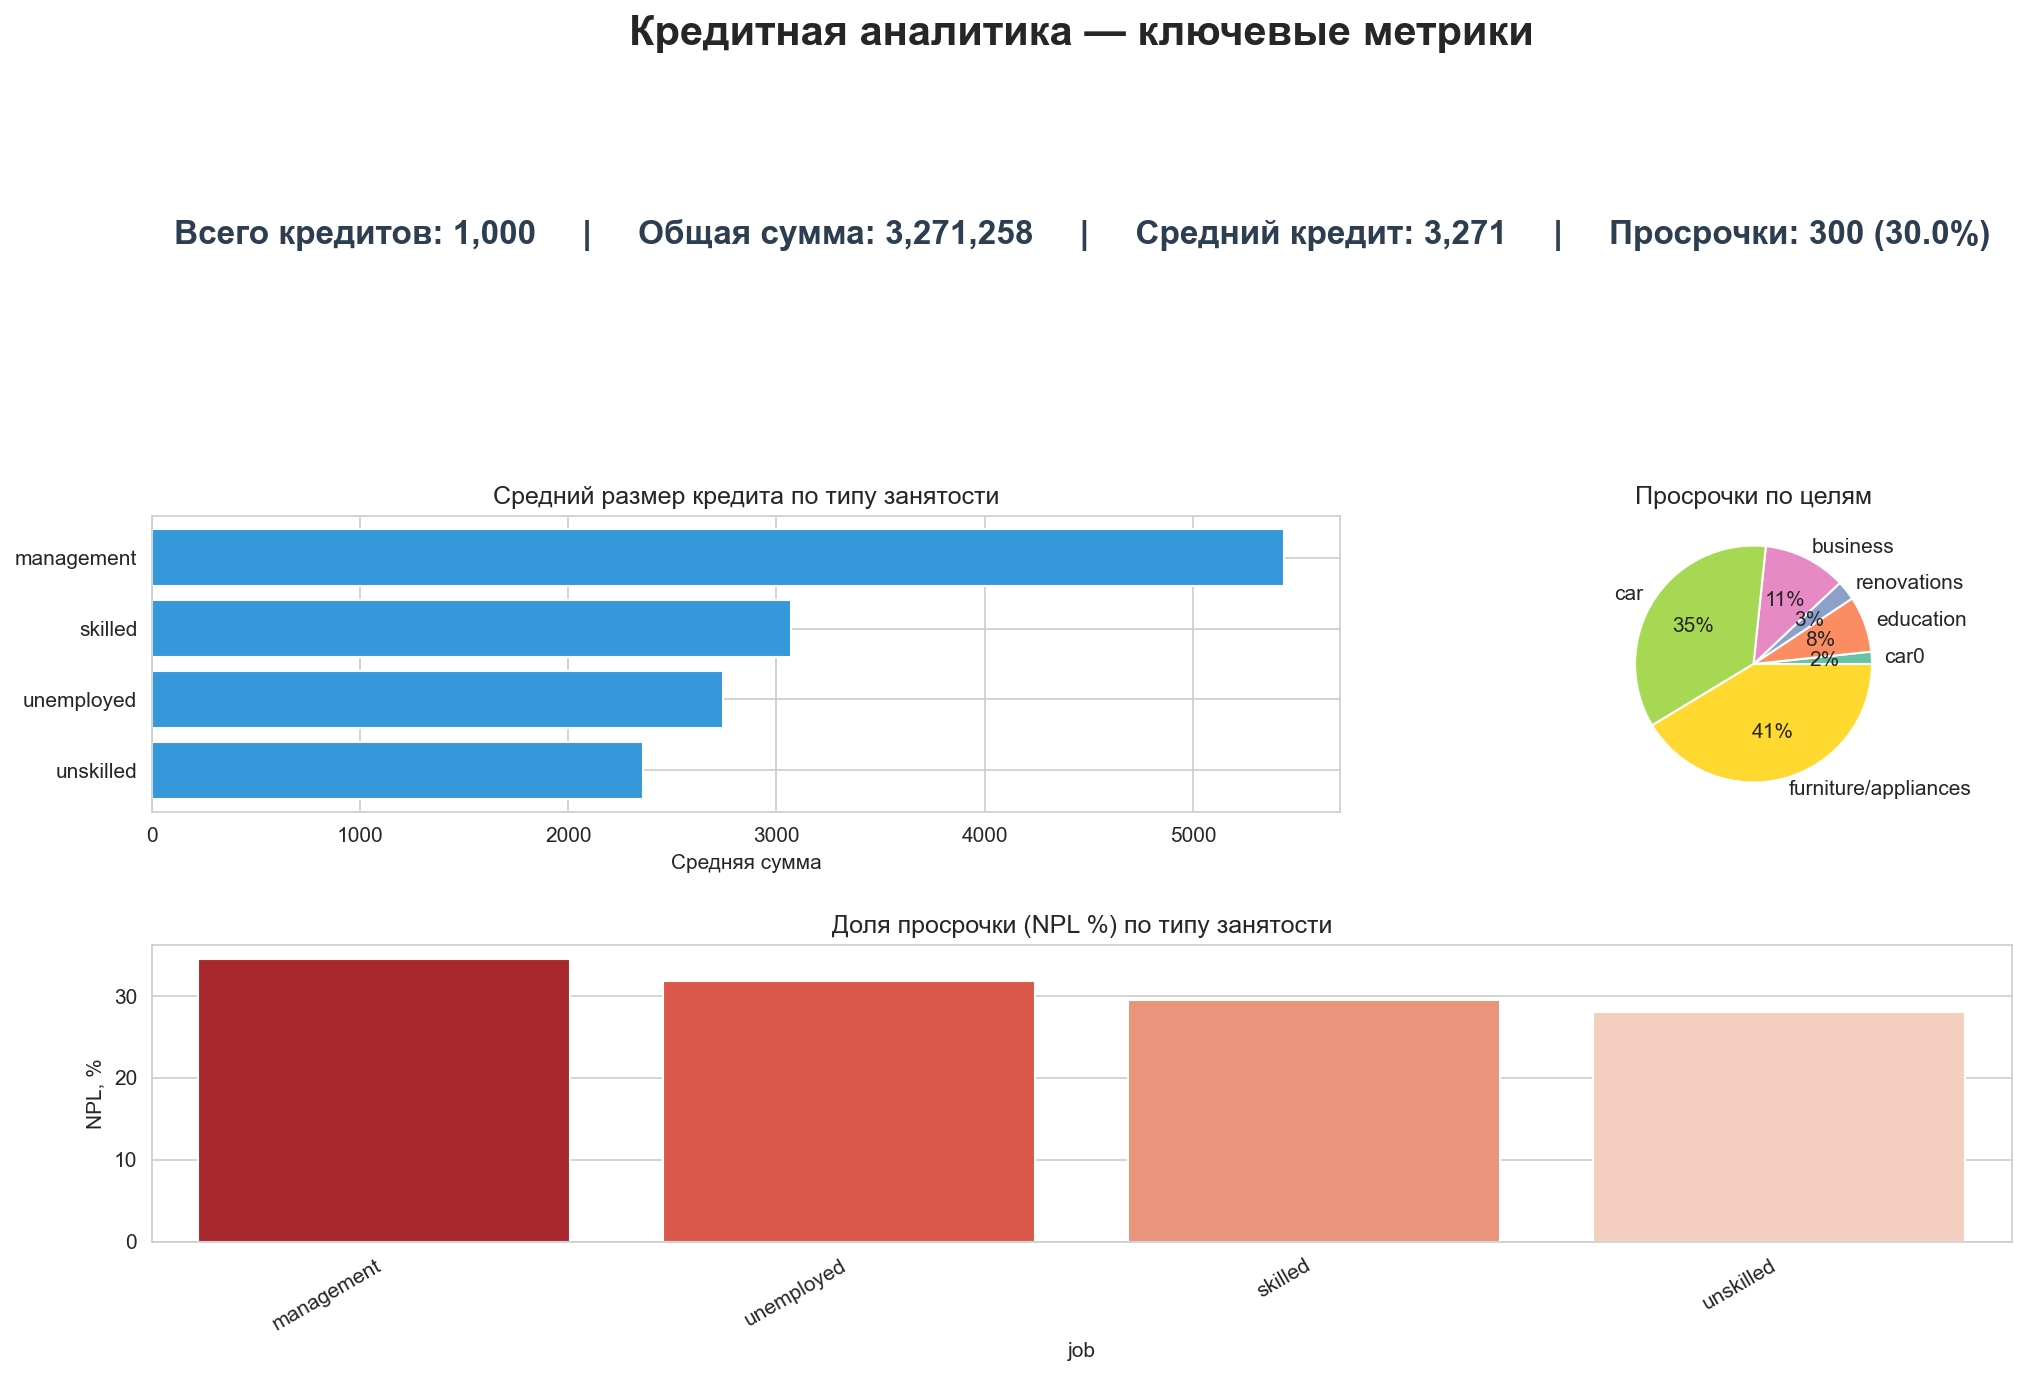

The page's visual inventory and layout, read from the dashboard file:
{"tool":"powerbi","page":{"name":"Страница 1","canvas":[1920,1080],"ordinal":0},"visuals":[{"type":"cardVisual","fields":{"Data":["public credit_data.Total_loans"]},"box":[0,105,240.9,167.2],"z":0},{"type":"cardVisual","fields":{"Data":["public credit_data.Средняя сумма кредита"]},"box":[232.1,105.5,272,166.5],"z":2},{"type":"cardVisual","fields":{"Data":["public credit_data.Количество просроченных кредитов"]},"box":[780.7,105.5,240.9,167.2],"z":3},{"type":"cardVisual","fields":{"Data":["public credit_data.NPL % (доля просрочки в %)"]},"box":[1022.2,103.2,292.5,167.5],"z":4},{"type":"columnChart","title":"Средняя сумма кредита по професии","fields":{"Category":["public credit_data.job"],"Y":["public credit_data.Средняя сумма кредита"]},"box":[0,510,922.5,570],"z":5},{"type":"pieChart","title":"Просрочки по цели кредитования","fields":{"Category":["public credit_data.purpose"],"Y":["public credit_data.Количество просроченных кредитов"]},"box":[945,510,975,570],"z":6},{"type":"slicer","fields":{"Values":["public credit_data.job"]},"box":[885,272.5,207.5,215],"z":7},{"type":"textbox","box":[295,0,1410,127.5],"z":8},{"type":"cardVisual","fields":{"Data":["public credit_data.Общая сумма кредитов"]},"box":[504.1,105.5,276.6,166.5],"z":9}]}

Visuals, with their boxes on the page's 1920x1080 design canvas (x1, y1, x2, y2). These are canvas units, not pixel positions in the 2026x1376 screenshot, which may show the page scaled, cropped or inside an application window:
cardVisual - public credit_data.Total_loans: <bbox>0, 105, 241, 272</bbox>
cardVisual - public credit_data.Средняя сумма кредита: <bbox>232, 106, 504, 272</bbox>
cardVisual - public credit_data.Количество просроченных кредитов: <bbox>781, 106, 1022, 273</bbox>
cardVisual - public credit_data.NPL % (доля просрочки в %): <bbox>1022, 103, 1315, 271</bbox>
"Средняя сумма кредита по професии" columnChart: <bbox>0, 510, 922, 1080</bbox>
"Просрочки по цели кредитования" pieChart: <bbox>945, 510, 1920, 1080</bbox>
slicer - public credit_data.job: <bbox>885, 272, 1092, 488</bbox>
textbox: <bbox>295, 0, 1705, 128</bbox>
cardVisual - public credit_data.Общая сумма кредитов: <bbox>504, 106, 781, 272</bbox>
